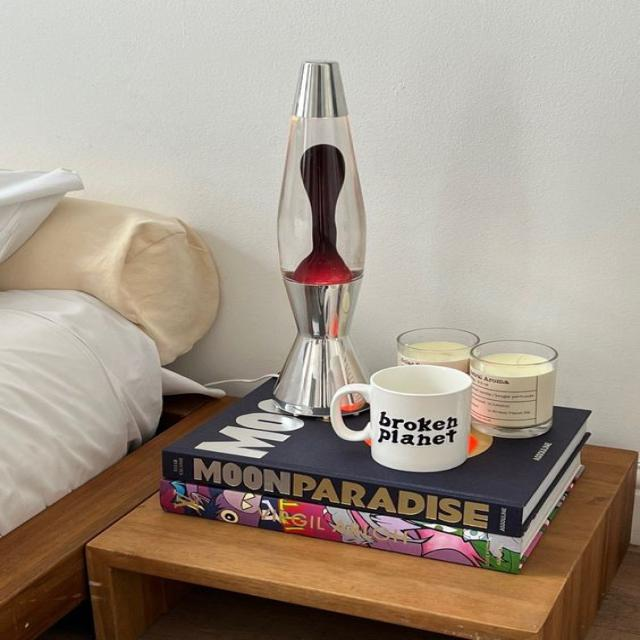book: (162, 480, 521, 573), (163, 451, 522, 539)
candle: (470, 341, 556, 436)
